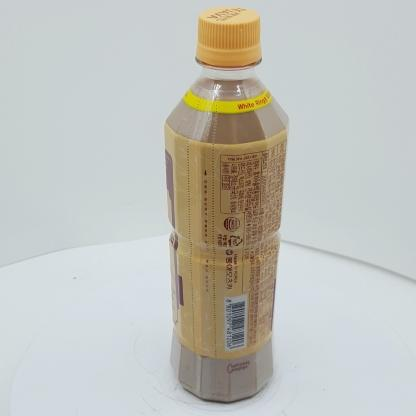-------------500ML: (164, 7, 289, 402)
